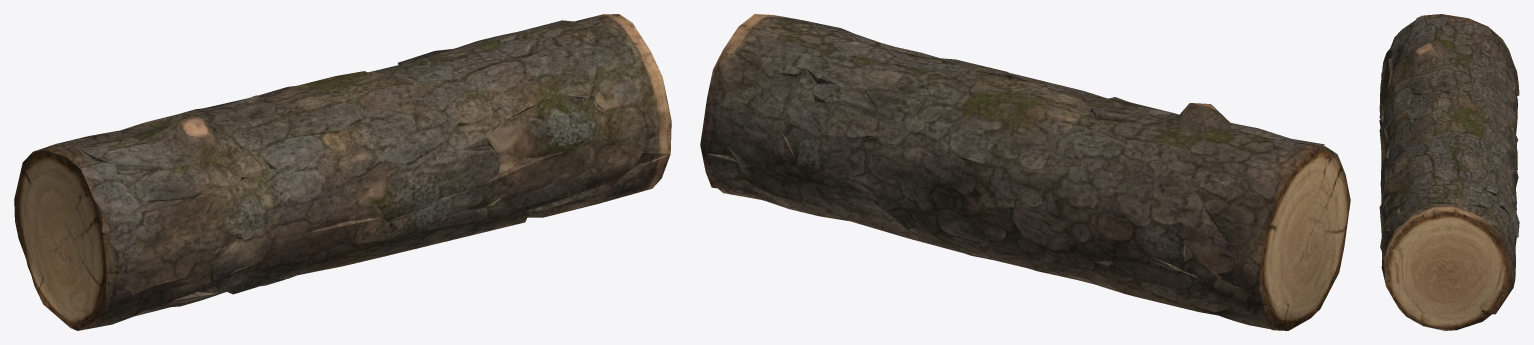
The picture shows the model from 3 angles, left to right: view 1: azimuth 30°, elevation 25°; view 2: azimuth 150°, elevation 25°; view 3: azimuth 270°, elevation 25°; orthographic projection. The views are drawn at different scales.
Parts seen in each view (by area): view 1: firewood-log; view 2: firewood-log; view 3: firewood-log.
Boxes of the visible parts, x1,y1,x2,y2 form: firewood-log: (14, 14, 671, 330); firewood-log: (700, 14, 1350, 330); firewood-log: (1379, 14, 1519, 330).
Size of the model in its own units: 1.2 by 0.3771 by 0.3593.
Materials: 1 (1 with a texture image).
